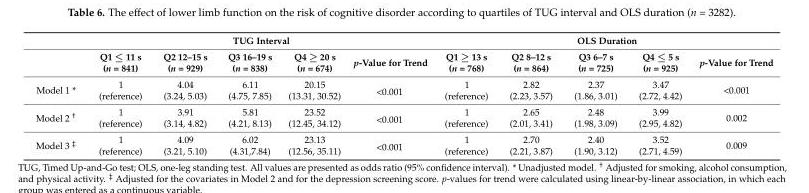table: (35, 34, 772, 156)
table column: (346, 34, 435, 156), (689, 34, 772, 156), (279, 34, 346, 156), (86, 34, 151, 156), (151, 34, 216, 156), (497, 34, 562, 156), (562, 34, 627, 156), (216, 34, 279, 156), (435, 34, 497, 156), (627, 34, 689, 156), (35, 34, 86, 156)
table column header: (35, 34, 772, 75)
table row: (35, 75, 772, 103), (35, 48, 772, 75), (35, 103, 772, 130), (35, 130, 772, 156), (35, 34, 772, 48)
table spanning cell: (86, 34, 435, 48), (435, 34, 772, 48)
